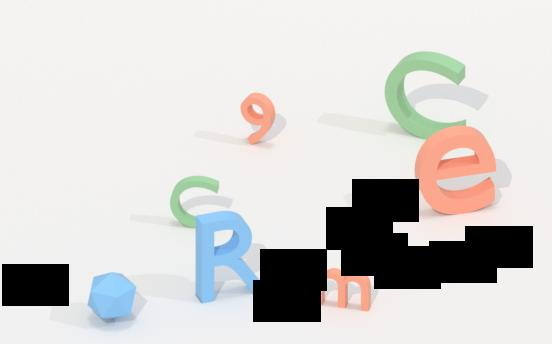9: (239, 90, 282, 150)
R-hoa: (193, 207, 269, 307)
c: (382, 46, 474, 146), (168, 171, 224, 231)
dagiac: (87, 271, 136, 325)
e: (413, 123, 498, 216)
m: (311, 264, 372, 316)
